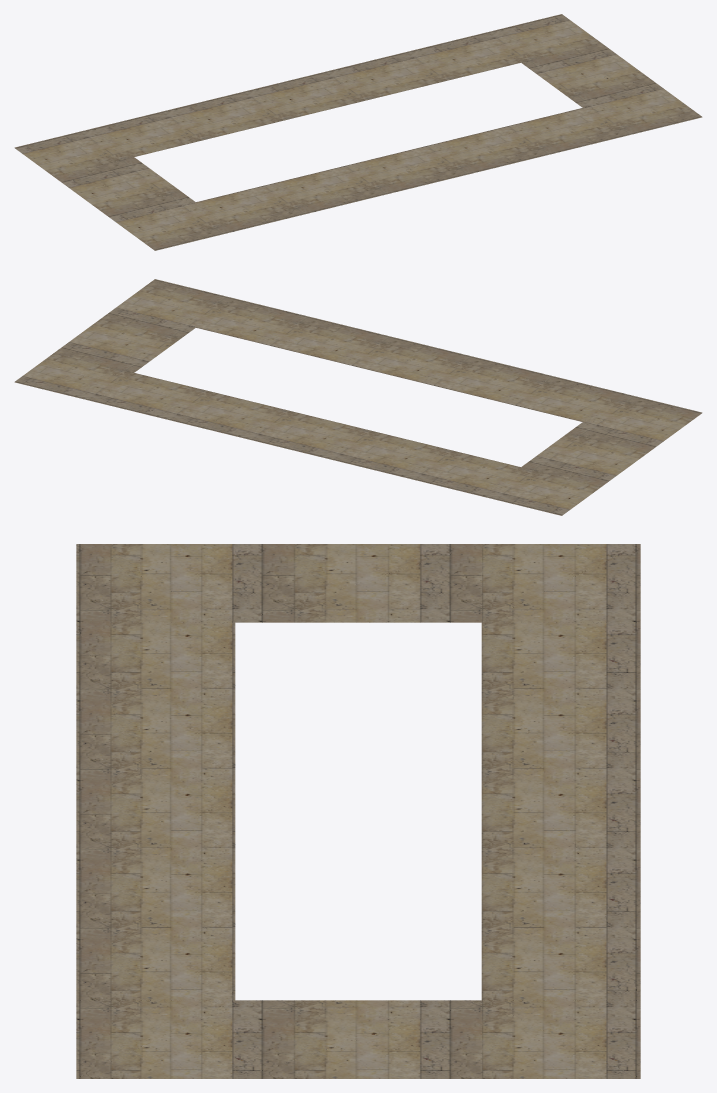
Rendered from Sponza44.gltf.
The picture shows the model from 3 angles, top to bottom: view 1: azimuth 30°, elevation 25°; view 2: azimuth 150°, elevation 25°; view 3: azimuth 270°, elevation 25°; orthographic projection. The views are drawn at different scales.
Bounding box in the file's own units: 21.88 × 0 × 9.76.
Materials: 1 (1 with a texture image).
